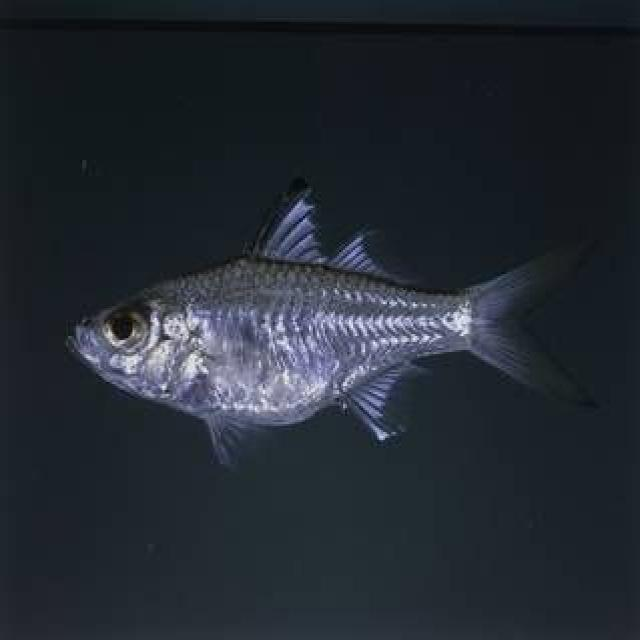Glass-Perchlet: (40, 160, 634, 493)
